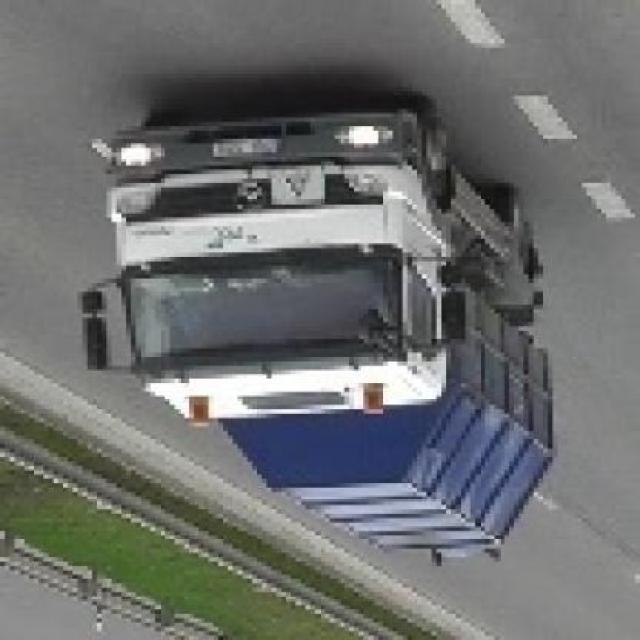truck: (79, 106, 554, 563)
